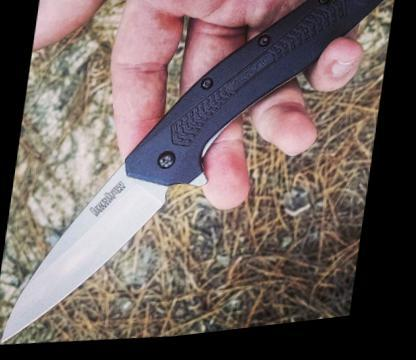knife: (0, 0, 401, 355)
